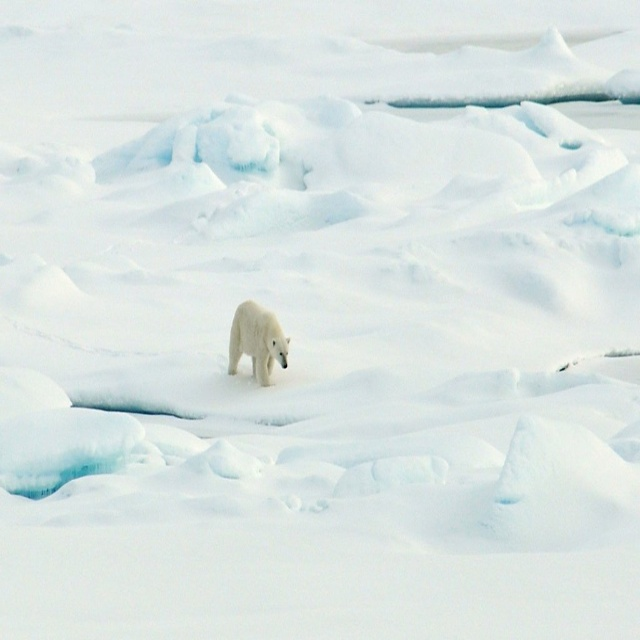Polar bear: (231, 299, 290, 387)
